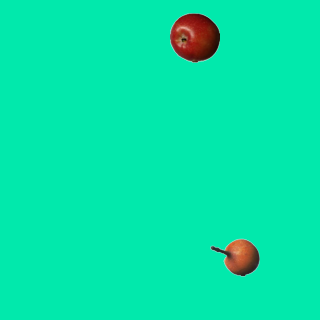Apple Braeburn: (169, 12, 219, 62)
Granadilla: (209, 232, 259, 282)
